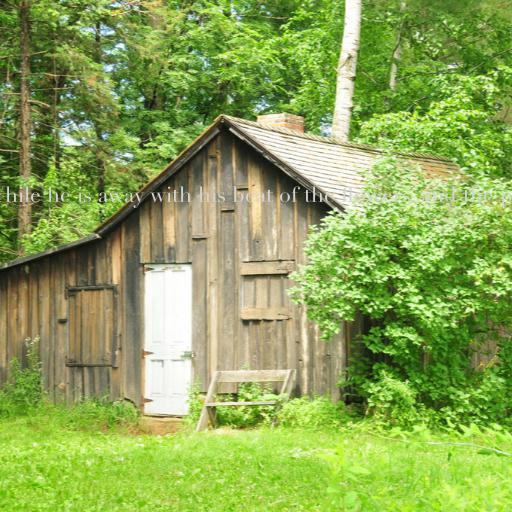Didot: (0, 186, 512, 208)
